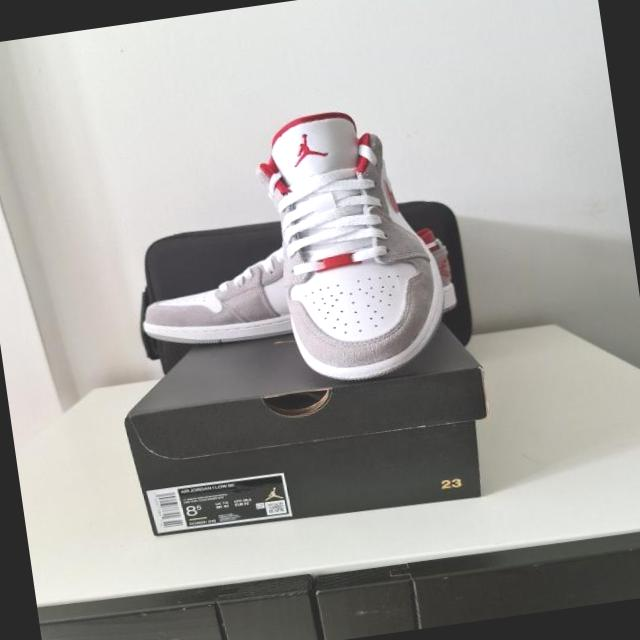nike_original_jordan: (247, 102, 459, 396)
